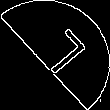L_SW: (24, 27, 86, 83)
